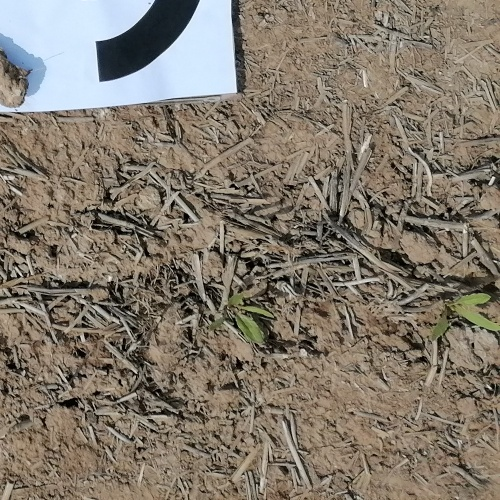beet: (428, 291, 500, 344), (209, 294, 275, 347)
